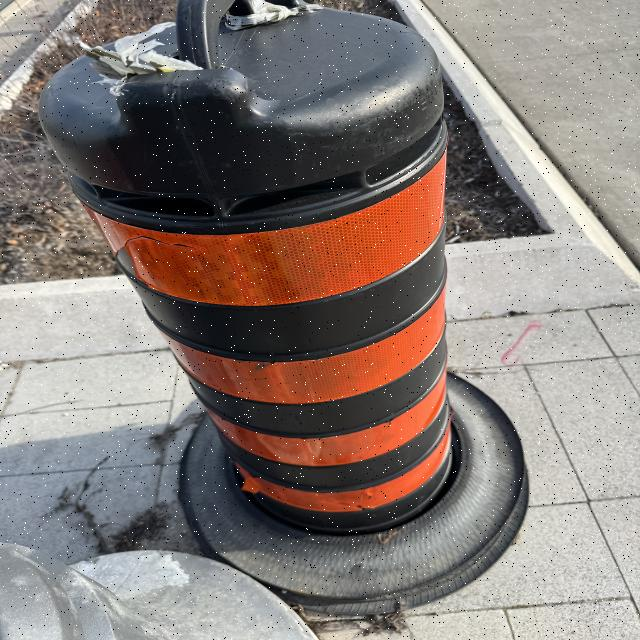Teraffic Barrel: (41, 0, 528, 613), (73, 119, 450, 533)
